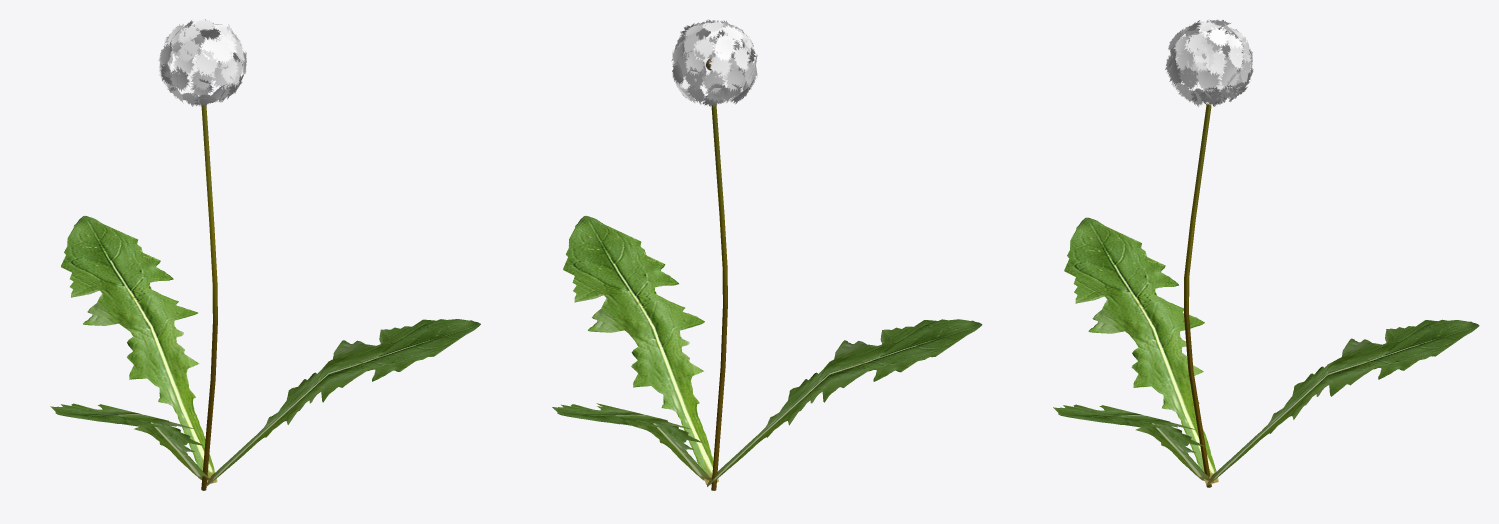
The model's file is Dandelion_Test2.FBX.
The picture shows the model from 3 angles, left to right: view 1: azimuth 30°, elevation 25°; view 2: azimuth 150°, elevation 25°; view 3: azimuth 270°, elevation 25°; orthographic projection.
Parts seen in each view (by area): view 1: DandelionPuff_GEO001; view 2: DandelionPuff_GEO001; view 3: DandelionPuff_GEO001.
Part boxes in pixels (x1=…): DandelionPuff_GEO001: x1=50, y1=19, x2=480, y2=490; DandelionPuff_GEO001: x1=552, y1=19, x2=982, y2=490; DandelionPuff_GEO001: x1=1053, y1=19, x2=1479, y2=487.
Size of the model in its own units: 207 by 179 by 196.
